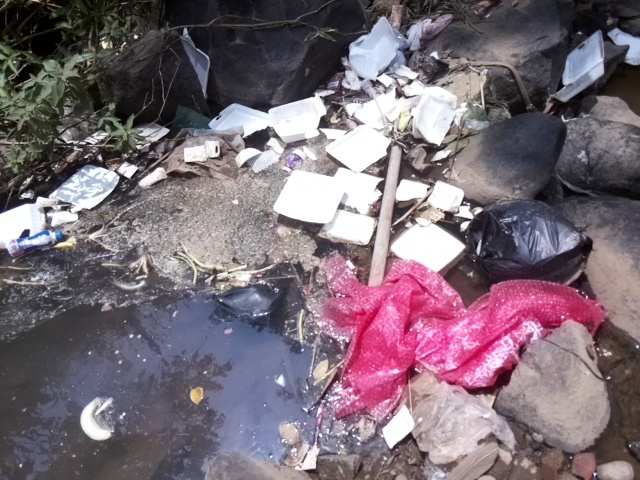Sampah_Botol_Plastik: (1, 227, 64, 261)
Sampah_Plastik: (307, 252, 612, 420), (463, 197, 599, 299), (208, 275, 286, 331)
Sampah_Styrofoam: (203, 102, 329, 154), (326, 123, 388, 211), (272, 163, 345, 231), (385, 219, 467, 273), (552, 29, 612, 102), (339, 16, 402, 85), (48, 161, 122, 215), (410, 83, 457, 148), (1, 194, 47, 248), (321, 208, 377, 246), (341, 97, 401, 128), (425, 179, 464, 215)
